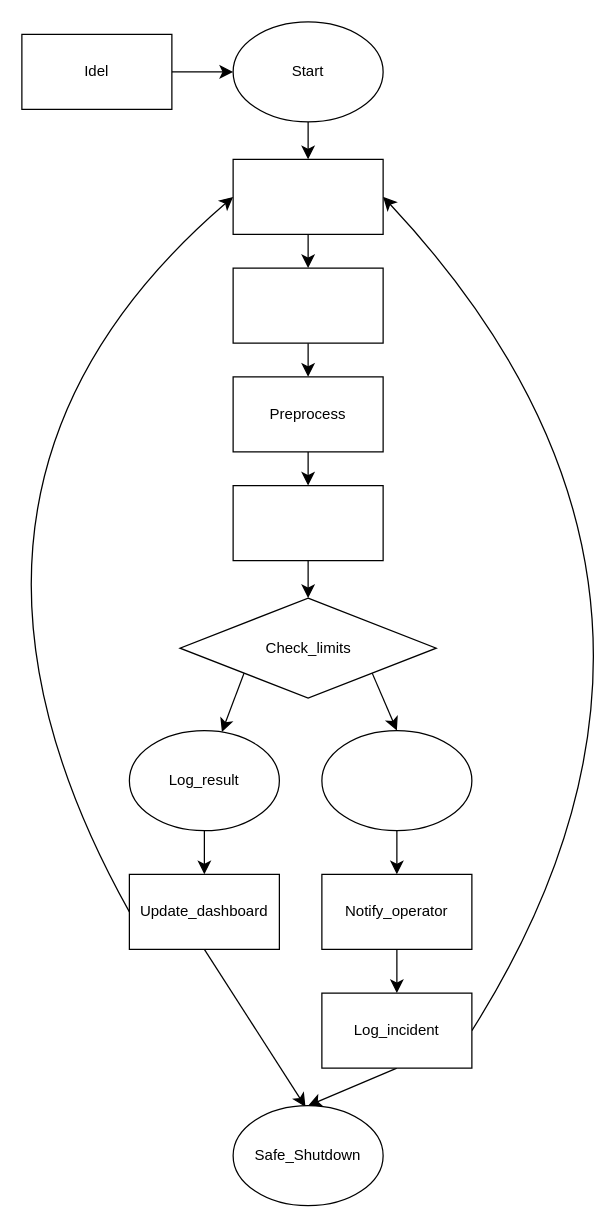
This 616x1228 diagram has some shape labels left out. Here are the shapes that lost their labels. From the top down, the centre of each, then its label:
At pixel 307 196: "Acquire_data".
At pixel 307 305: "Validate".
At pixel 307 522: "RN_Inference".
At pixel 396 780: "Trigger_alert".
